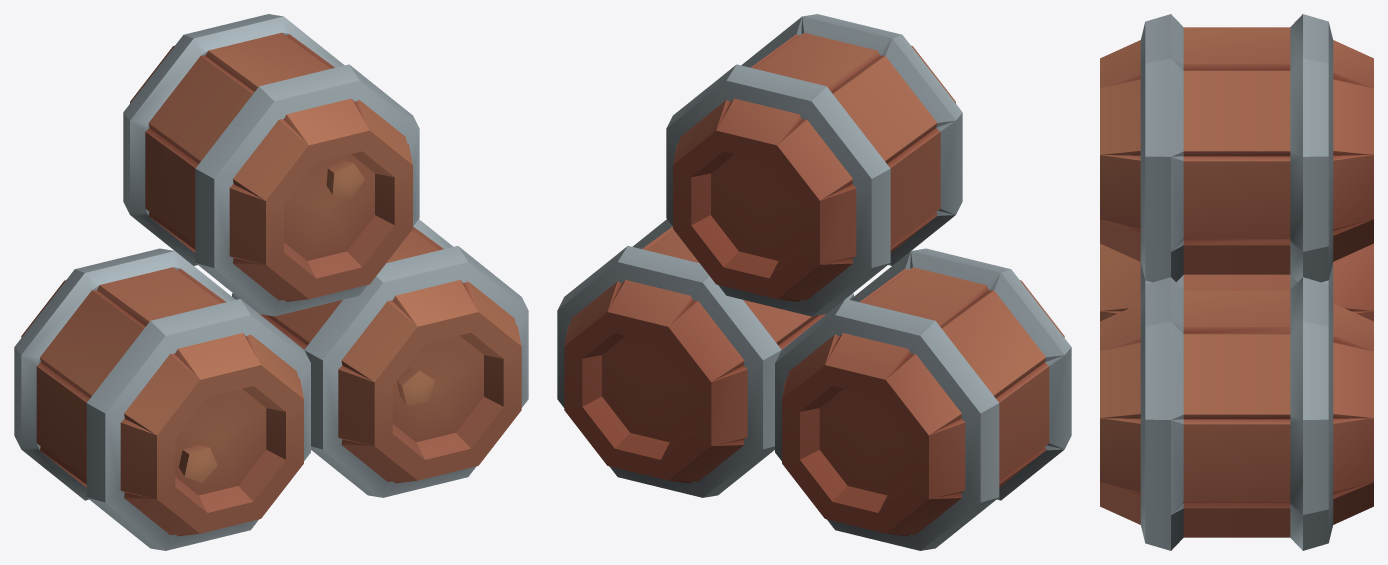
The model's file is dungeon-barrels.glb.
The picture shows the model from 3 angles, left to right: view 1: azimuth 30°, elevation 25°; view 2: azimuth 150°, elevation 25°; view 3: azimuth 270°, elevation 25°; orthographic projection.
Visible parts, largest first — view 1: dungeon-barrels; view 2: dungeon-barrels; view 3: dungeon-barrels.
Boxes of the visible parts, x1,y1,x2,y2 form: dungeon-barrels: (14, 14, 528, 550); dungeon-barrels: (557, 14, 1071, 550); dungeon-barrels: (1100, 14, 1373, 550).
Size of the model in its own units: 1.39 by 1.33 by 0.75.
1 material, 1 textured.
